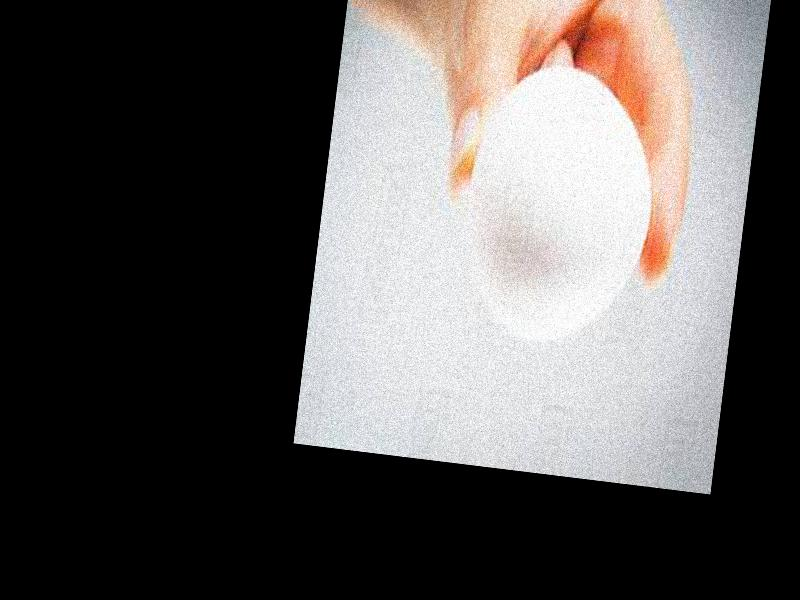Eggs: (456, 60, 666, 352)
